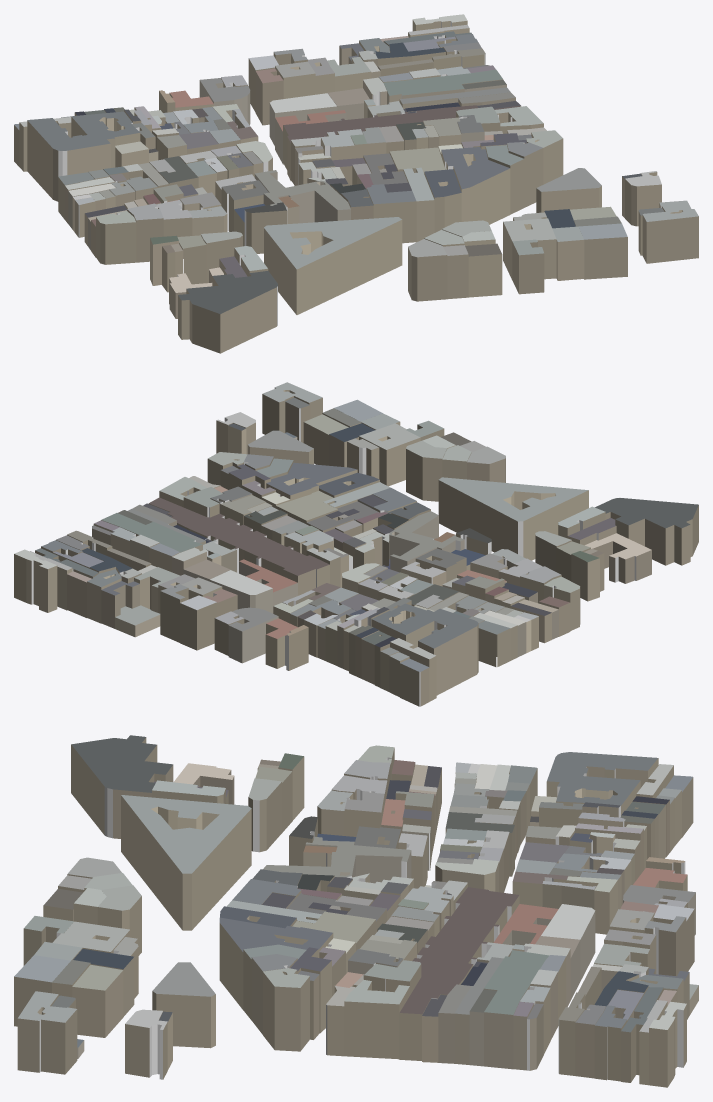
3 views of the same model, one above another, from view 1: azimuth 30°, elevation 25°; view 2: azimuth 150°, elevation 25°; view 3: azimuth 270°, elevation 25° (orthographic). The views are drawn at different scales.
Visible parts, largest first — view 1: tuile; view 2: tuile; view 3: tuile.
Part boxes in pixels (x1,y1,x2,y2): tuile: [14, 14, 698, 353]; tuile: [14, 382, 698, 706]; tuile: [14, 735, 698, 1087].
Bounding box in the file's own units: 279 × 29.12 × 267.
